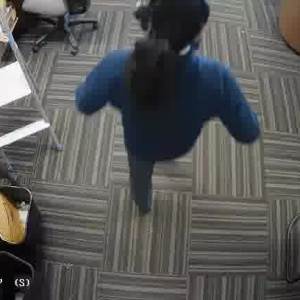person: (80, 12, 238, 191)
